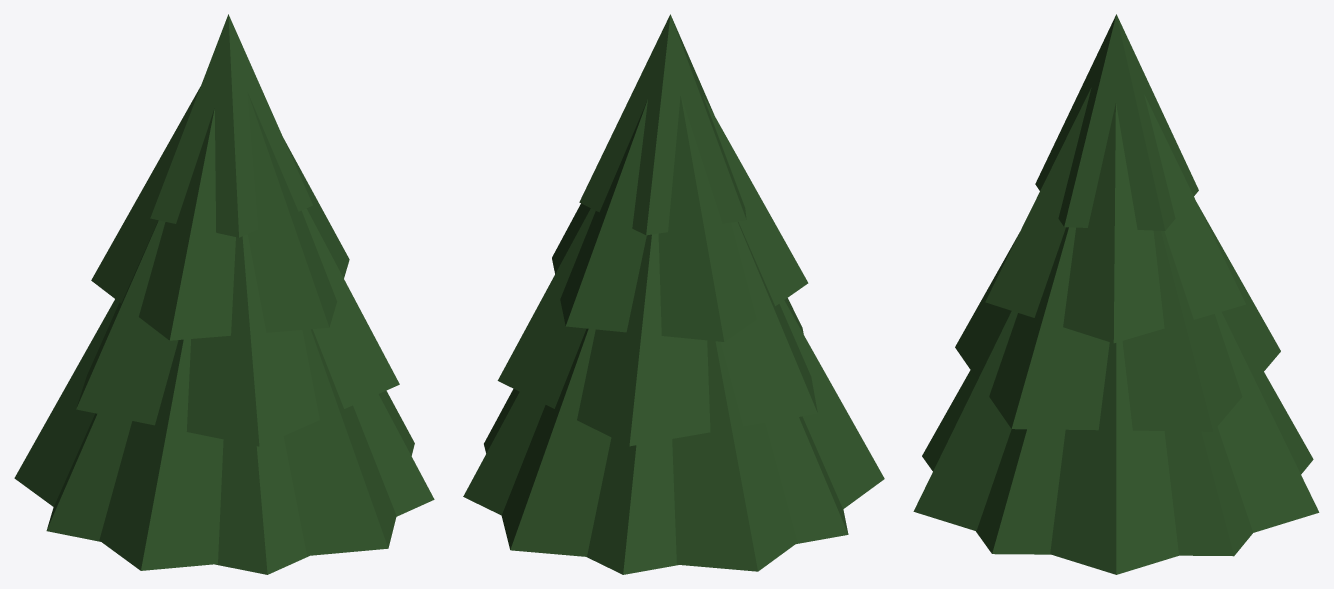
File: PineTree.fbx
The picture shows the model from 3 angles, left to right: view 1: azimuth 30°, elevation 25°; view 2: azimuth 150°, elevation 25°; view 3: azimuth 270°, elevation 25°; orthographic projection.
Parts seen in each view (by area): view 1: pCone8; view 2: pCone8; view 3: pCone8.
Part boxes in pixels (bbox=[...]): pCone8: bbox=[14, 14, 434, 574]; pCone8: bbox=[463, 14, 884, 574]; pCone8: bbox=[913, 14, 1319, 574].
Bounding box in the file's own units: 8.08 × 10.99 × 7.82.
